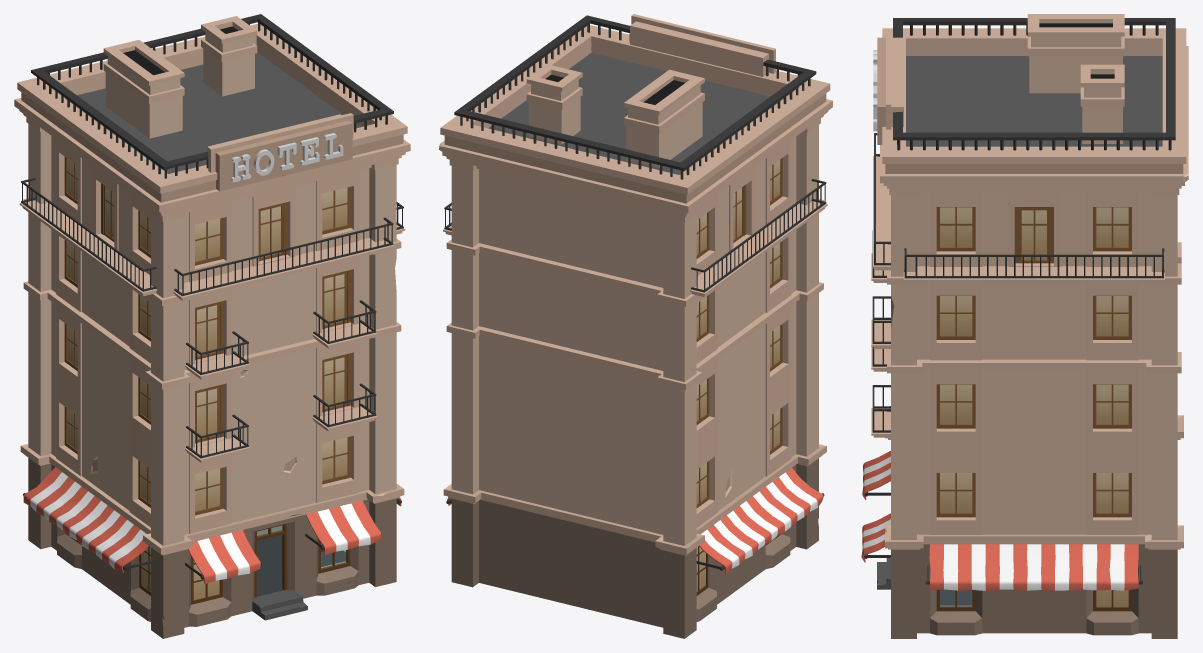
The model's file is SM_Buildings_Hotel_01.fbx.
3 renders of one model, left to right at view 1: azimuth 30°, elevation 25°; view 2: azimuth 150°, elevation 25°; view 3: azimuth 270°, elevation 25°, orthographic. The views are drawn at different scales.
Visible parts, largest first — view 1: SM_Buildings_Hotel_01; view 2: SM_Buildings_Hotel_01; view 3: SM_Buildings_Hotel_01.
Part boxes in pixels (x1,y1,x2,y2): SM_Buildings_Hotel_01: (14, 14, 410, 638); SM_Buildings_Hotel_01: (439, 14, 832, 638); SM_Buildings_Hotel_01: (861, 14, 1188, 638).
Bounding box in the file's own units: 10.61 × 17.94 × 10.04.
